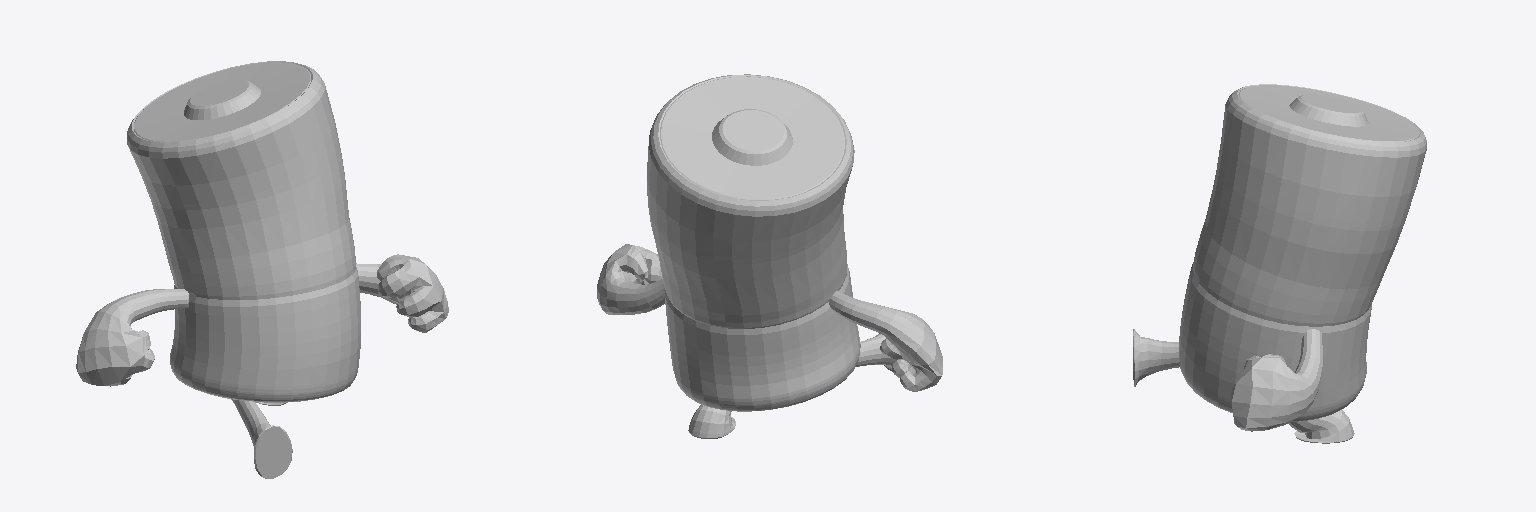
File: boi-4.obj
3 views of the same model, side by side, from view 1: azimuth 30°, elevation 25°; view 2: azimuth 150°, elevation 25°; view 3: azimuth 270°, elevation 25° (orthographic).
Visible parts, largest first — view 1: meshes_0; view 2: meshes_0; view 3: meshes_0.
Part boxes in pixels (x1,y1,x2,y2): meshes_0: (76,61,448,478); meshes_0: (597,74,942,438); meshes_0: (1133,84,1426,443).
Bounding box in the file's own units: 130 × 115 × 93.7.